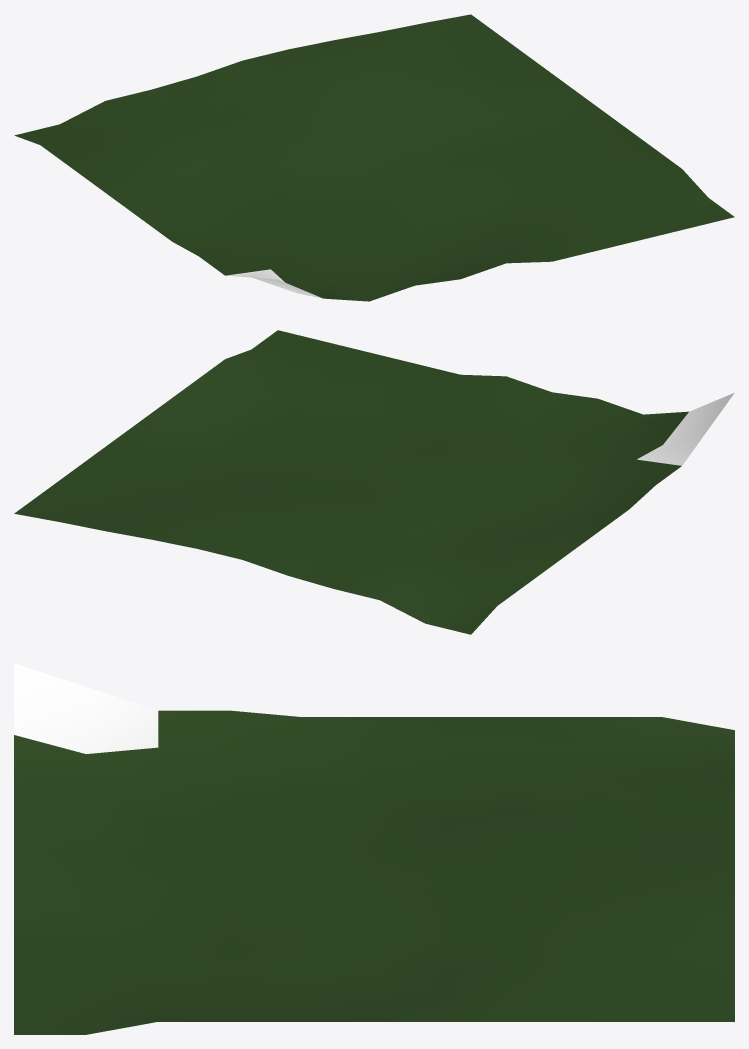
3 views of the same model, one above another, from view 1: azimuth 30°, elevation 25°; view 2: azimuth 150°, elevation 25°; view 3: azimuth 270°, elevation 25° (orthographic). The views are drawn at different scales.
Visible parts, largest first — view 1: TerrainModel.044; view 2: TerrainModel.044; view 3: TerrainModel.044.
Boxes of the visible parts, x1=… form: TerrainModel.044: x1=14, y1=14, x2=734, y2=301; TerrainModel.044: x1=14, y1=330, x2=734, y2=634; TerrainModel.044: x1=14, y1=663, x2=734, y2=1034.
Size of the model in its own units: 19608 by 2211 by 19608.
